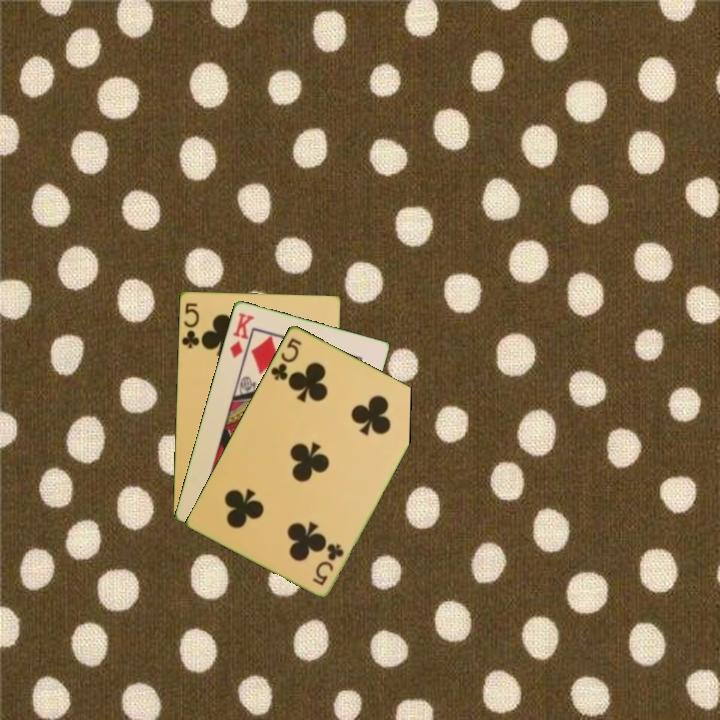5c: (267, 334, 305, 383), (309, 539, 347, 588), (179, 299, 202, 351)
Kd: (226, 309, 257, 361)
